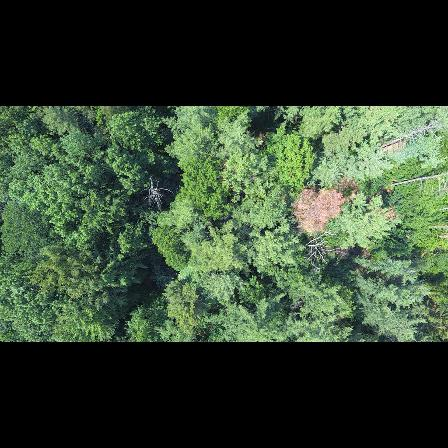Dead: (301, 229, 346, 270), (140, 174, 175, 214)
